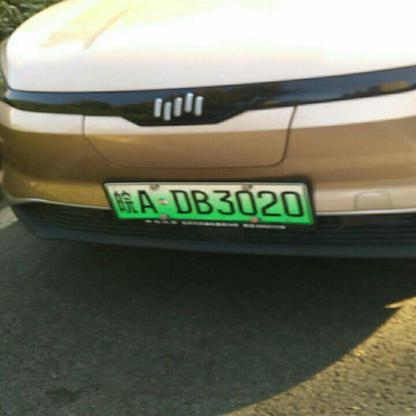lp: (106, 184, 311, 222)
